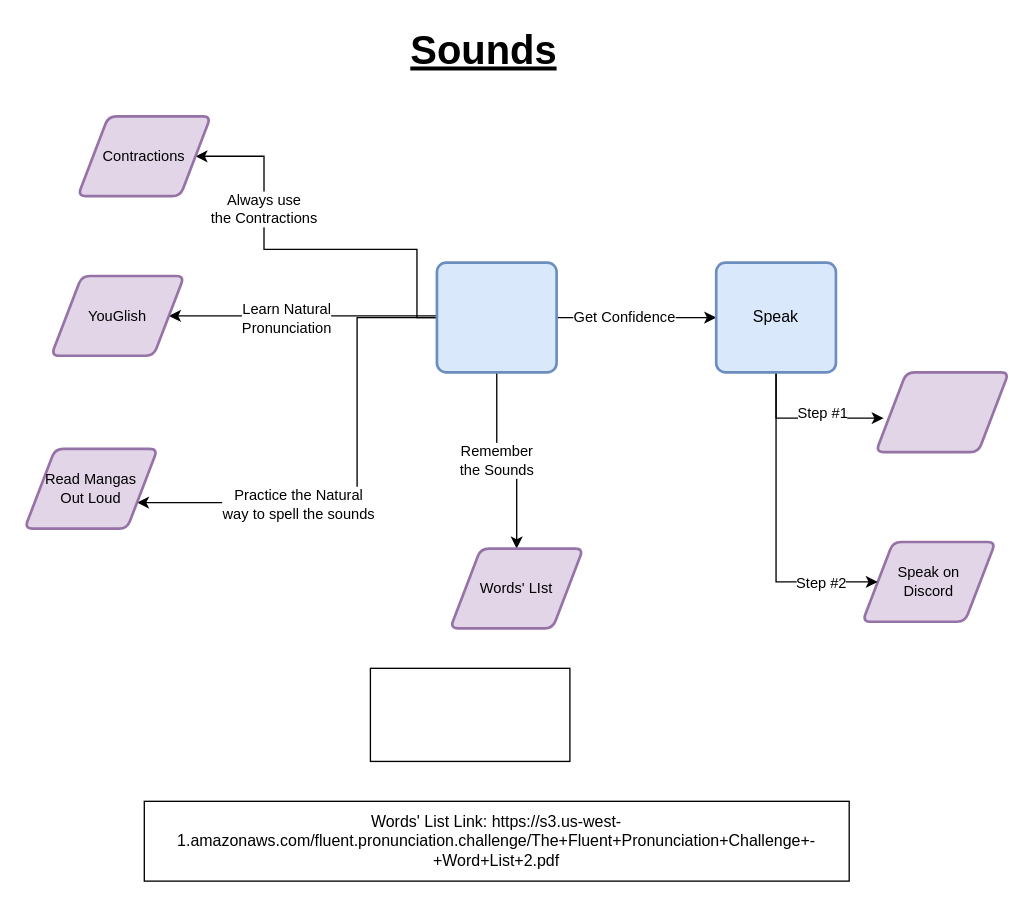
This 1032x904 diagram has some shape labels left out. Each missing label, with the centre of its shape:
"Most Common Sounds" belongs at point 496,317.
"Speak with Myself" belongs at point 941,411.
"Youglish Link: https://youglish.com/" belongs at point 469,714.
